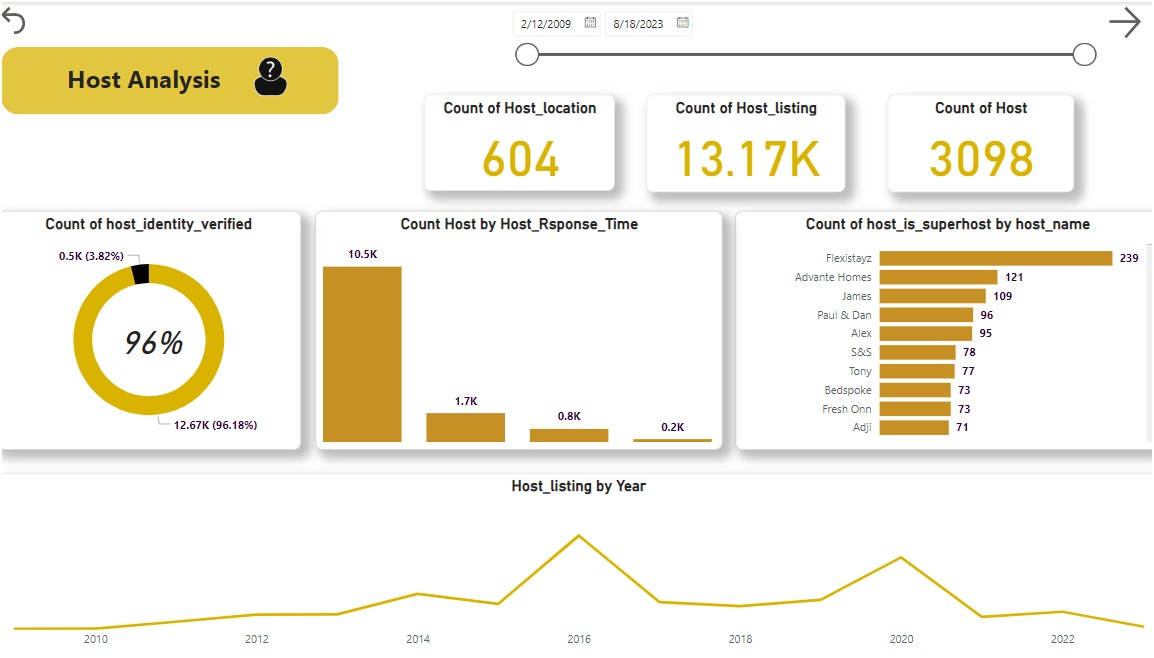

The dashboard page shown, as its layout file describes it:
{"tool":"powerbi","page":{"name":"Host","canvas":[1280,720],"ordinal":1},"visuals":[{"type":"clusteredBarChart","fields":{"Category":["Hotel Aggregator dataset.host_name"],"Y":["Hotel Aggregator dataset.host_is_superhost"]},"box":[812.4,229.2,466.6,262.1],"z":0},{"type":"donutChart","title":"Count of host_identity_verified ","fields":{"Category":["Hotel Aggregator dataset.host_identity_verified"],"Y":["Hotel Aggregator dataset.host_identity_verified"]},"box":[0,229.2,336.2,262.1],"z":1000},{"type":"lineChart","title":"Host_listing by Year","fields":{"Category":["Hotel Aggregator dataset.host_since.Variation.Date Hierarchy.Year"],"Y":["Hotel Aggregator dataset.host_total_listings_count"]},"box":[0,517.3,1280.3,203.1],"z":2000},{"type":"clusteredColumnChart","title":" Count Host by Host_Rsponse_Time","fields":{"Category":["Hotel Aggregator dataset.host_response_time"],"Y":["Hotel Aggregator dataset.host_name"]},"box":[351.3,229.2,447.3,262.1],"z":3000},{"type":"card","fields":{"Values":["Hotel Aggregator dataset.T%"]},"box":[110.2,322.8,124.2,96.2],"z":4000},{"type":"card","title":"Count of Host_listing","fields":{"Values":["Hotel Aggregator dataset.host_total_listings_count"]},"box":[714.9,101.5,218.2,107],"z":5000},{"type":"card","title":"Count of Host","fields":{"Values":["Hotel Aggregator dataset.host_name"]},"box":[979.8,101.5,204.5,107],"z":6000},{"type":"card","title":"Count of Host_location","fields":{"Values":["Hotel Aggregator dataset.host_location.1"]},"box":[470.7,101.5,209.9,105.7],"z":7000},{"type":"slicer","fields":{"Values":["Hotel Aggregator dataset.host_since"]},"box":[555.7,0,661.4,87.8],"z":8000},{"type":"shape","box":[6.9,49.4,370.5,74.1],"z":9000},{"type":"textbox","box":[74.1,60.4,244.3,64.5],"z":10000},{"type":"actionButton","box":[0,0,100,40],"z":11000},{"type":"actionButton","box":[1217.2,0,61.7,45.3],"z":12000},{"type":"image","box":[269,50.8,67.2,61.7],"z":13000}]}

Visuals, with their boxes in screenshot pixels (x1, y1, x2, y2), scaled from the page's 1280x720 canvas onto the 1154x658 screenshot:
clusteredBarChart - Hotel Aggregator dataset.host_name x Hotel Aggregator dataset.host_is_superhost: (732, 209, 1153, 449)
"Count of host_identity_verified " donutChart: (0, 209, 303, 449)
"Host_listing by Year" lineChart: (0, 473, 1153, 657)
" Count Host by Host_Rsponse_Time" clusteredColumnChart: (317, 209, 720, 449)
card - Hotel Aggregator dataset.T%: (99, 295, 211, 383)
"Count of Host_listing" card: (645, 93, 841, 191)
"Count of Host" card: (883, 93, 1068, 191)
"Count of Host_location" card: (424, 93, 614, 189)
slicer - Hotel Aggregator dataset.host_since: (501, 0, 1097, 80)
shape: (6, 45, 340, 113)
textbox: (67, 55, 287, 114)
actionButton: (0, 0, 90, 37)
actionButton: (1097, 0, 1153, 41)
image: (243, 46, 303, 103)
